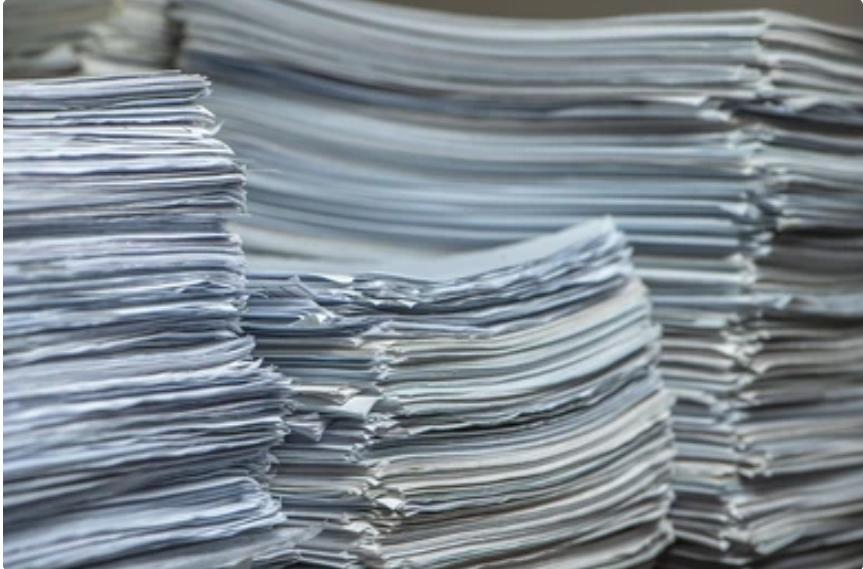Paper: (0, 79, 310, 569), (195, 0, 853, 222), (247, 241, 677, 569)
